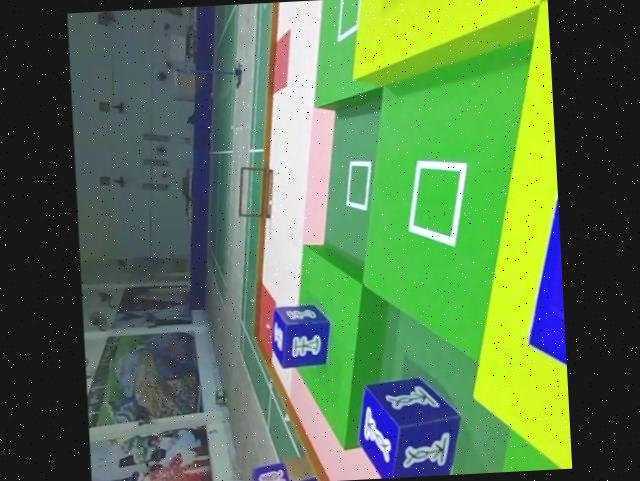R2 Fake Blue: (247, 461, 290, 481)
R2 Real Blue: (358, 371, 467, 479), (270, 303, 336, 371)
